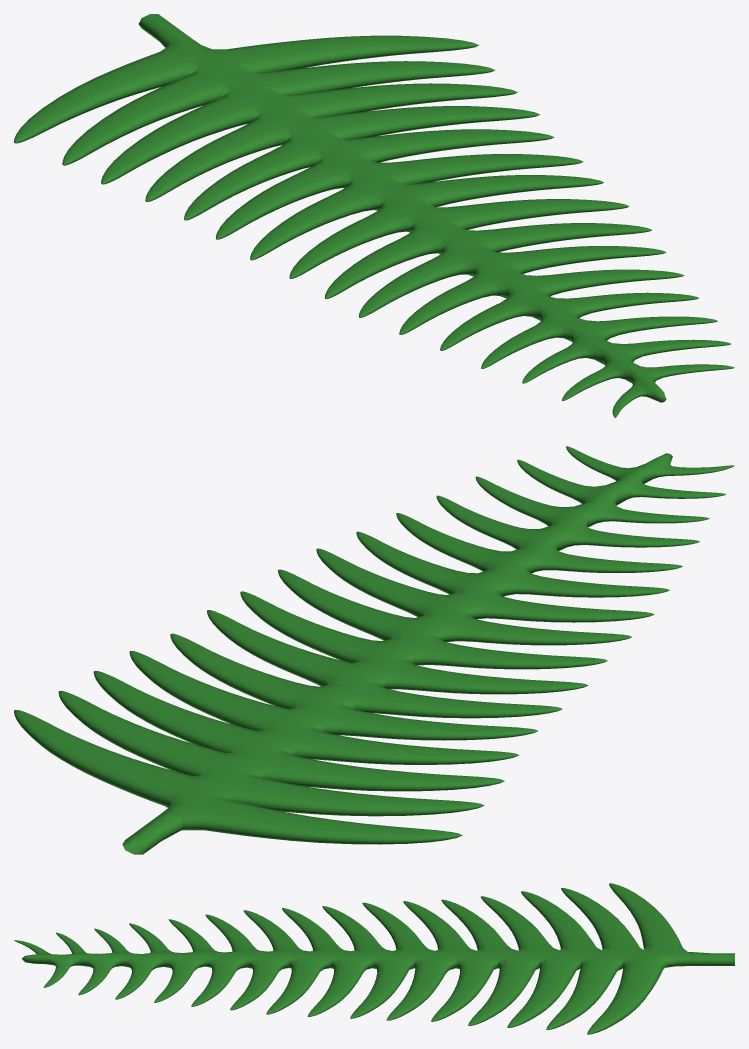
File: Ferny.fbx
The picture shows the model from 3 angles, top to bottom: view 1: azimuth 30°, elevation 25°; view 2: azimuth 150°, elevation 25°; view 3: azimuth 270°, elevation 25°; orthographic projection. The views are drawn at different scales.
Visible parts, largest first — view 1: Cube; view 2: Cube; view 3: Cube.
Boxes of the visible parts, bbox=[...] form: Cube: bbox=[14, 14, 734, 417]; Cube: bbox=[14, 446, 734, 854]; Cube: bbox=[14, 883, 734, 1034].
Size of the model in its own units: 149 by 301 by 4.99.
